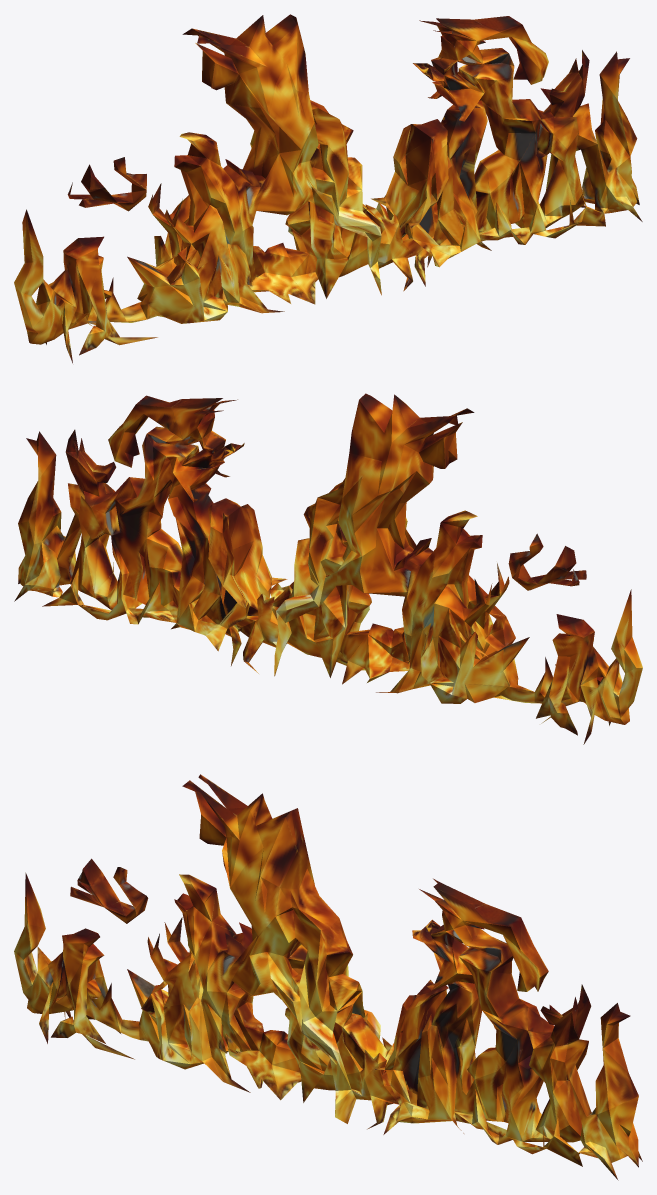
Rendered from dancing_flames.glb.
The picture shows the model from 3 angles, top to bottom: view 1: azimuth 30°, elevation 25°; view 2: azimuth 150°, elevation 25°; view 3: azimuth 330°, elevation 25°; orthographic projection.
Parts seen in each view (by area): view 1: output_unwrapped; view 2: output_unwrapped; view 3: output_unwrapped.
Boxes of the visible parts, x1,y1,x2,y2 form: output_unwrapped: [14, 14, 642, 363]; output_unwrapped: [14, 393, 642, 744]; output_unwrapped: [14, 774, 642, 1180].
Bounding box in the file's own units: 1.9 × 0.8601 × 0.2414.
Materials: 1 (1 with a texture image).
